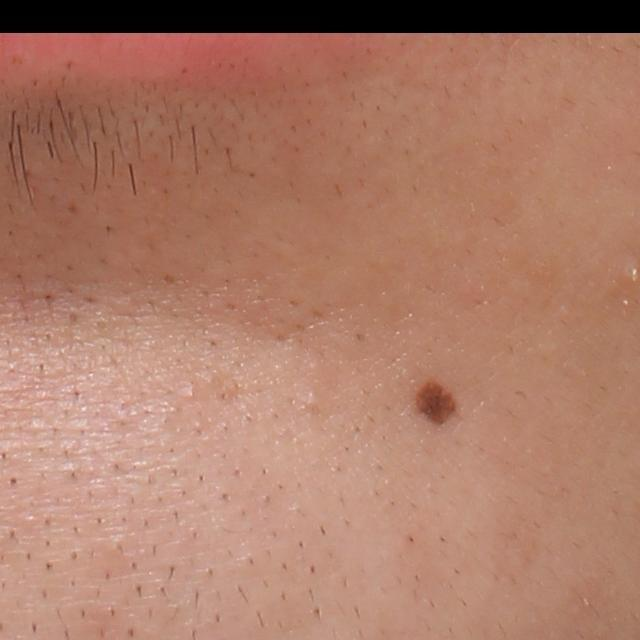nevus: (413, 377, 460, 427)
